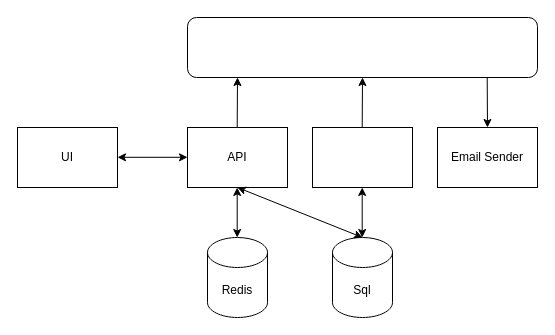
Some shapes in this 555 by 335 pixel diagram are drawn without their labels. The centre of each missing label's shape, as x and y in pixels:
"RabbitMQ" belongs at point 362,47.
"Scheduler" belongs at point 362,157.
